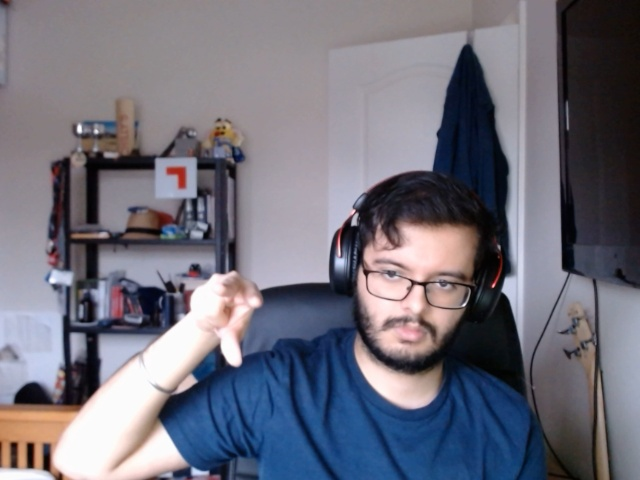No: (186, 264, 271, 372)
